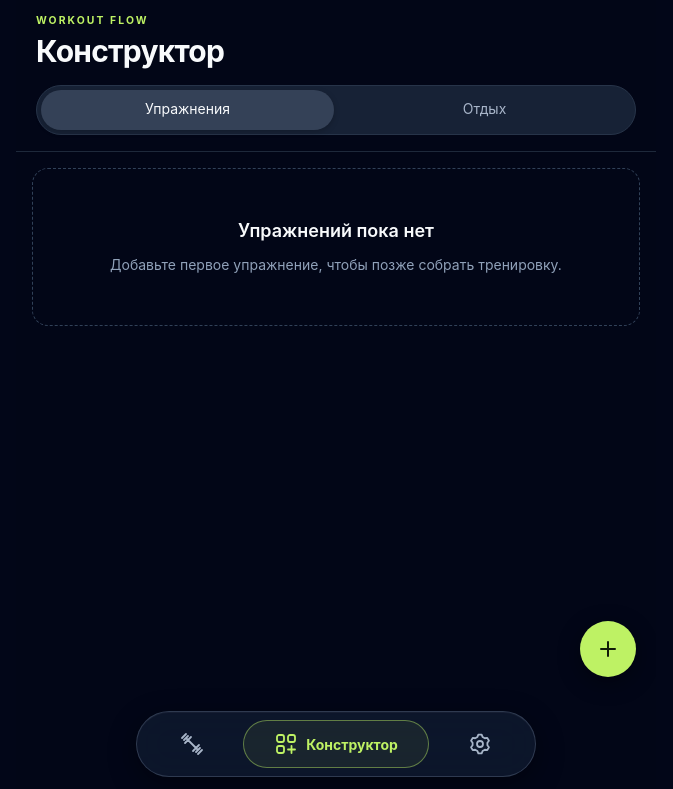
Test: exercise catalog › opens the create exercise form
This screenshot has width=673, height=789.
Expected: the heading "Упражнений пока нет" is shown, [238,220,434,241]
Click the button named "Добавить упражнение": (608, 649) [580,621,636,677]
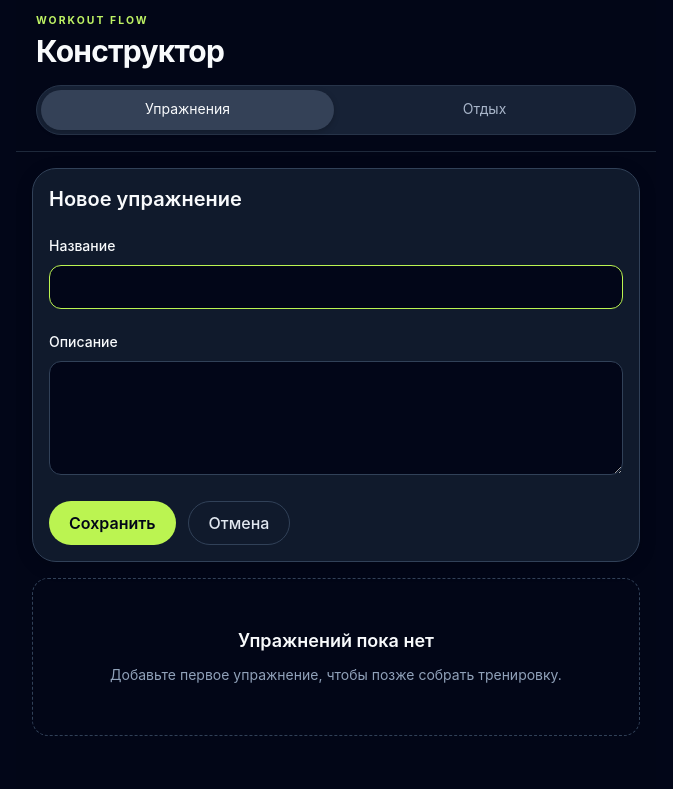
Now the heading "Новое упражнение" is shown, box [49,187,242,211]
